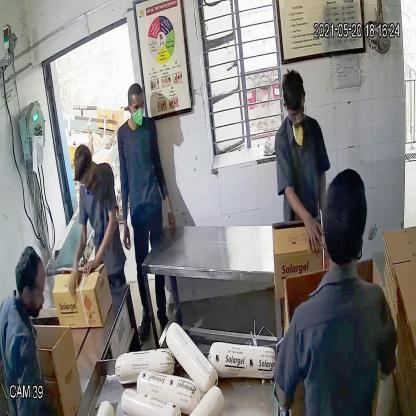goggles: (284, 96, 312, 125)
